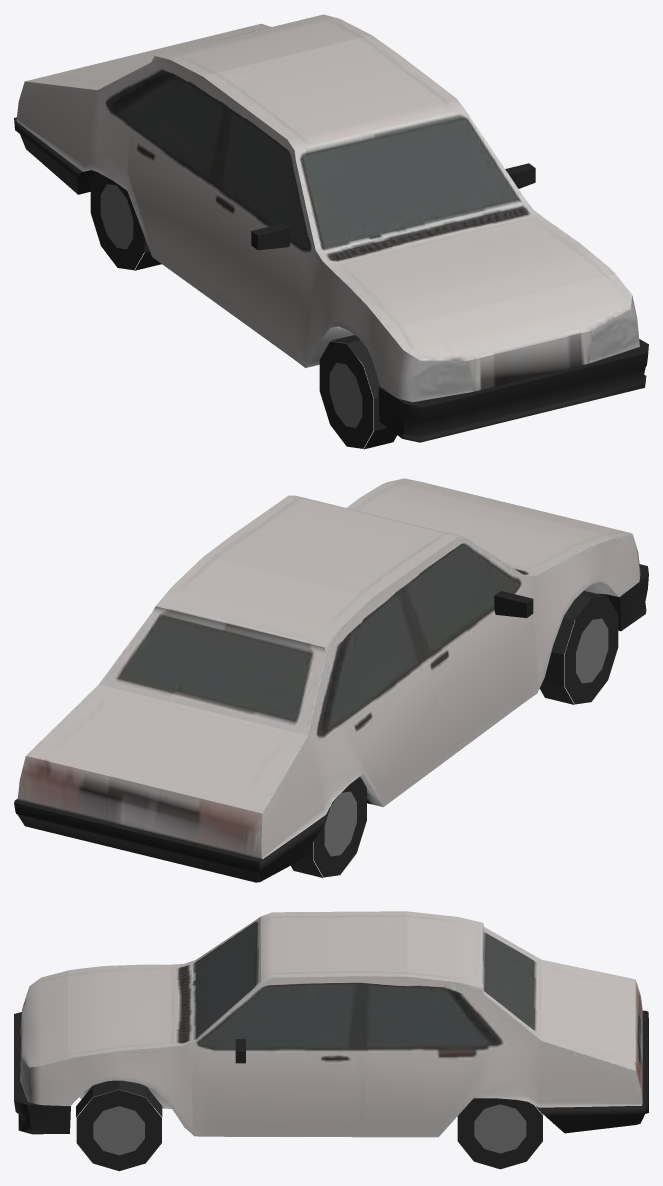
The model's file is sedan.glb.
The picture shows the model from 3 angles, top to bottom: view 1: azimuth 30°, elevation 25°; view 2: azimuth 150°, elevation 25°; view 3: azimuth 270°, elevation 25°; orthographic projection. The views are drawn at different scales.
Parts seen in each view (by area): view 1: body, trim; view 2: body, trim; view 3: body, trim.
Boxes of the visible parts, x1=… form: body: x1=16, y1=14, x2=639, y2=402; trim: x1=14, y1=117, x2=648, y2=449; body: x1=17, y1=478, x2=640, y2=859; trim: x1=14, y1=564, x2=648, y2=882; body: x1=20, y1=911, x2=642, y2=1137; trim: x1=14, y1=1010, x2=648, y2=1171.
Bounding box in the file's own units: 1.8 × 1.42 × 4.5.
2 materials, 1 textured.
